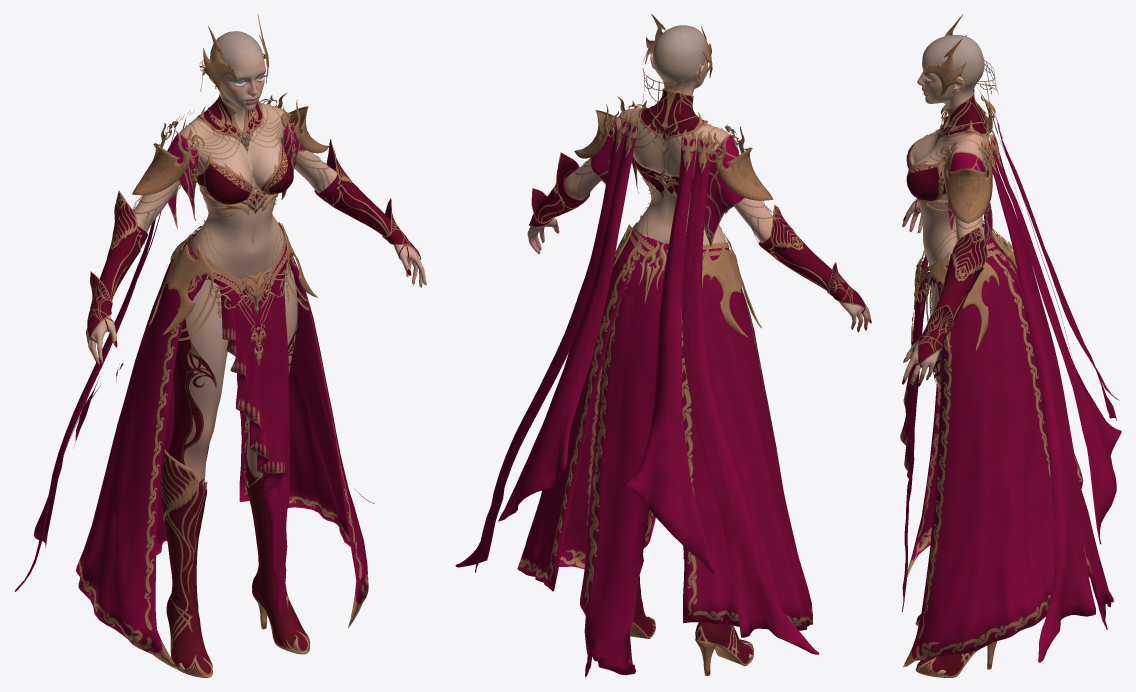
The picture shows the model from 3 angles, left to right: view 1: azimuth 30°, elevation 25°; view 2: azimuth 150°, elevation 25°; view 3: azimuth 270°, elevation 25°; orthographic projection. The views are drawn at different scales.
Parts seen in each view (by area): view 1: GF_Kromede_01_Body, GF_Kromede_01_Boots, GF_Kromede_01_Pants, GF_Kromede_01_Glove, GF_Kromede_01_Shoulder, GF_BaseHead, GF_Kromede_01_Cape, GF_Kromede_01_Helmet; view 2: GF_Kromede_01_Body, GF_Kromede_01_Cape, GF_Kromede_01_Glove, GF_Kromede_01_Shoulder, GF_BaseHead, GF_Kromede_01_Boots, GF_Kromede_01_Helmet; view 3: GF_Kromede_01_Body, GF_Kromede_01_Cape, GF_Kromede_01_Glove, GF_BaseHead, GF_Kromede_01_Shoulder, GF_Kromede_01_Boots, GF_Kromede_01_Helmet, GF_Kromede_01_Pants.
Part boxes in pixels (x1,y1,x2,y2): GF_Kromede_01_Body: (76, 91, 425, 669); GF_Kromede_01_Boots: (160, 447, 309, 677); GF_Kromede_01_Pants: (168, 230, 308, 670); GF_Kromede_01_Glove: (87, 139, 426, 366); GF_Kromede_01_Shoulder: (132, 92, 329, 195); GF_BaseHead: (209, 31, 268, 120); GF_Kromede_01_Cape: (14, 109, 374, 591); GF_Kromede_01_Helmet: (199, 14, 268, 94); GF_Kromede_01_Body: (517, 88, 870, 677); GF_Kromede_01_Cape: (455, 110, 818, 654); GF_Kromede_01_Glove: (529, 152, 871, 332); GF_Kromede_01_Shoulder: (574, 96, 773, 200); GF_BaseHead: (650, 25, 708, 95); GF_Kromede_01_Boots: (630, 576, 753, 675); GF_Kromede_01_Helmet: (642, 14, 712, 115); GF_Kromede_01_Body: (900, 89, 1113, 667); GF_Kromede_01_Cape: (983, 97, 1121, 662); GF_Kromede_01_Glove: (902, 198, 987, 388); GF_BaseHead: (917, 35, 984, 108); GF_Kromede_01_Shoulder: (938, 89, 995, 223); GF_Kromede_01_Boots: (915, 614, 997, 677); GF_Kromede_01_Helmet: (924, 14, 998, 111); GF_Kromede_01_Pants: (927, 226, 984, 675).
Bounding box in the file's own units: 1.11 × 1.86 × 0.6.
Materials: 10 (9 with a texture image).
